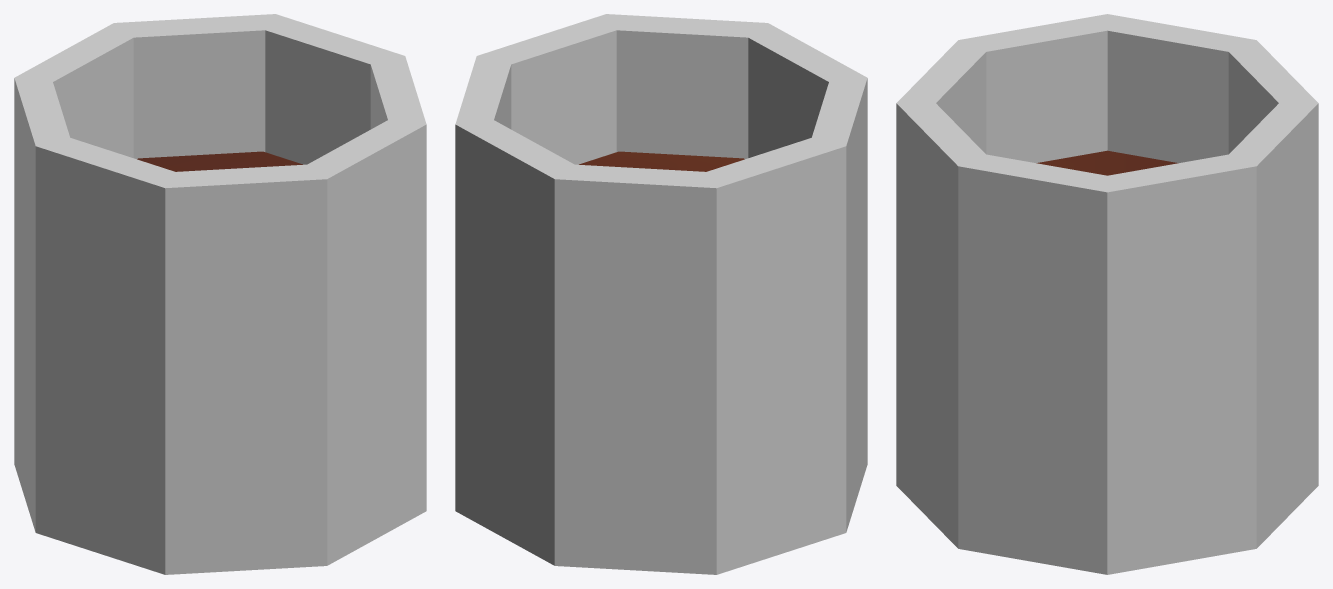
File: MapeGlass.003.fbx
The picture shows the model from 3 angles, left to right: view 1: azimuth 30°, elevation 25°; view 2: azimuth 150°, elevation 25°; view 3: azimuth 270°, elevation 25°; orthographic projection.
Visible parts, largest first — view 1: MapeGlass.003; view 2: MapeGlass.003; view 3: MapeGlass.003.
Boxes of the visible parts, bbox=[...] form: MapeGlass.003: bbox=[14, 14, 426, 574]; MapeGlass.003: bbox=[455, 14, 867, 574]; MapeGlass.003: bbox=[896, 14, 1318, 574].
Bounding box in the file's own units: 30.46 × 30.46 × 30.46.
